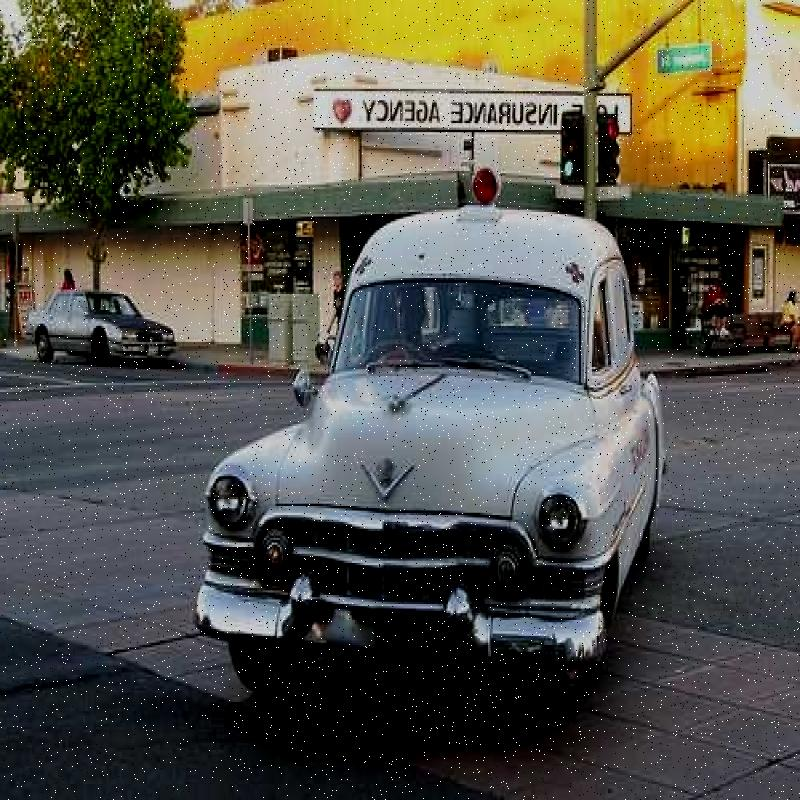AmbulanceSiren: (464, 156, 501, 215)
